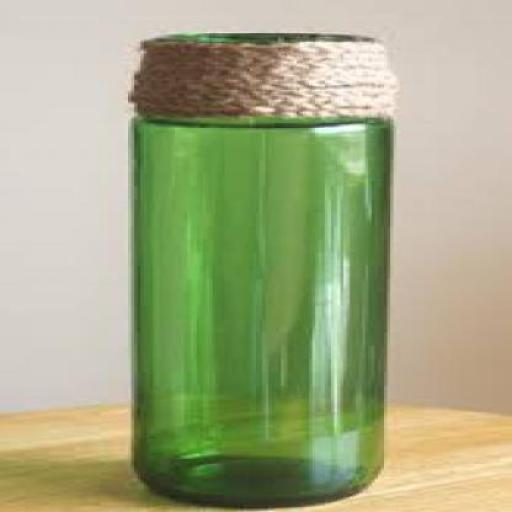glass: (125, 31, 387, 508)
